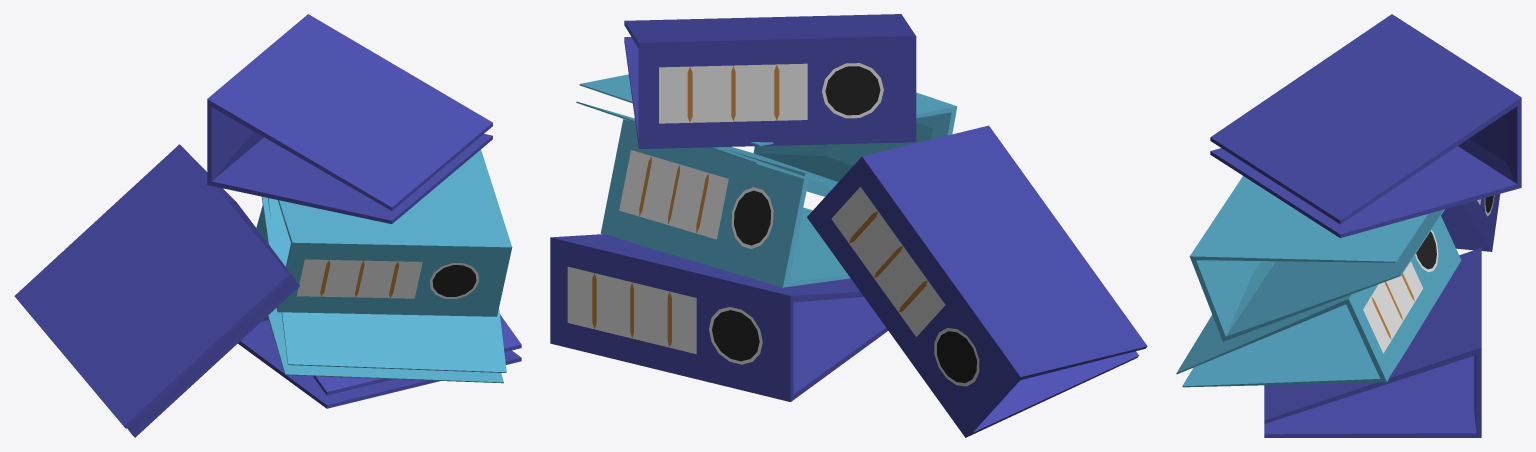
File: dosya_engel.fbx
3 renders of one model, left to right at view 1: azimuth 30°, elevation 25°; view 2: azimuth 150°, elevation 25°; view 3: azimuth 270°, elevation 25°, orthographic. The views are drawn at different scales.
Parts seen in each view (by area): view 1: dosya_engel; view 2: dosya_engel; view 3: dosya_engel.
Part boxes in pixels (x1,y1,x2,y2): dosya_engel: (14, 14, 521, 437); dosya_engel: (550, 14, 1147, 437); dosya_engel: (1176, 14, 1521, 437).
Size of the model in its own units: 90.56 by 59.08 by 62.94.
